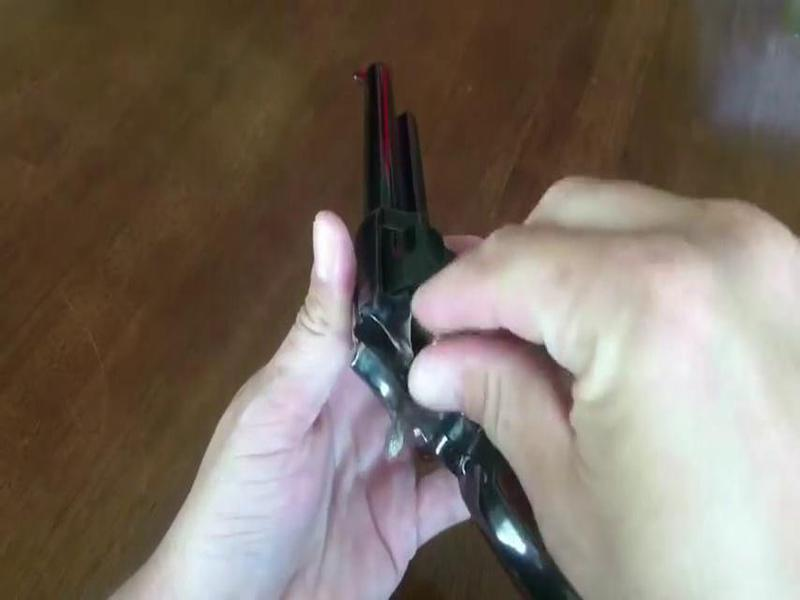Revolver: (292, 54, 539, 555)
